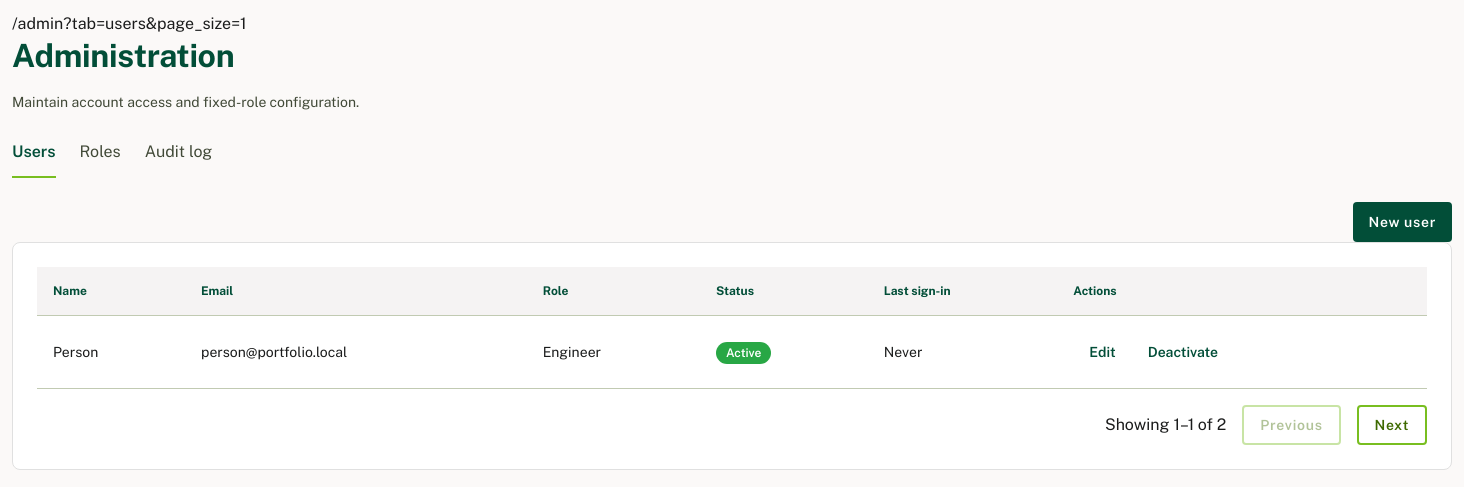
pages users through URL, switches tabs and renders stored role configuration
Expected: the text "Person" is shown, [37,316,185,388]
Expected: the column headings read "Name", "Email", "Role", "Status", "Last sign-in", "Actions", in this order, [37,267,185,316]; [185,267,527,316]; [527,267,700,316]; [700,267,868,316]; [868,267,1057,316]; [1057,267,1427,316]
Click the button "Next" at {"x": 1392, "y": 425}, box [1357,405,1427,445]
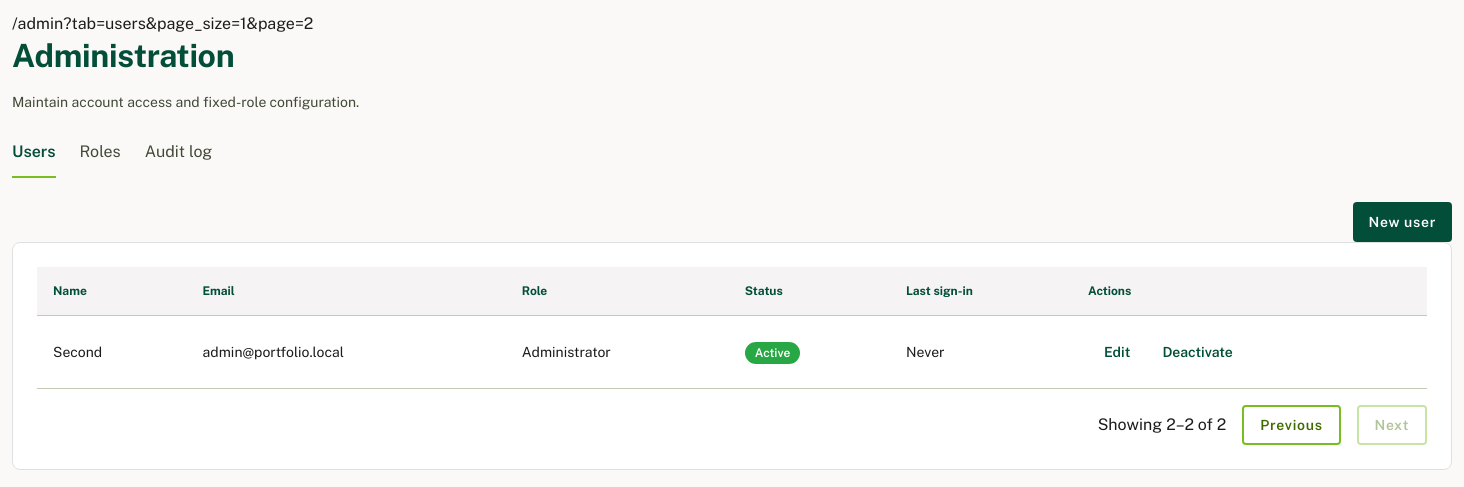
Now the text "Second" is shown, box [37,316,186,388]
Now the text named "Current route" shows "page=2", box [63,14,313,33]
Click the button "Previous" at {"x": 1291, "y": 425}, box [1242,405,1341,445]
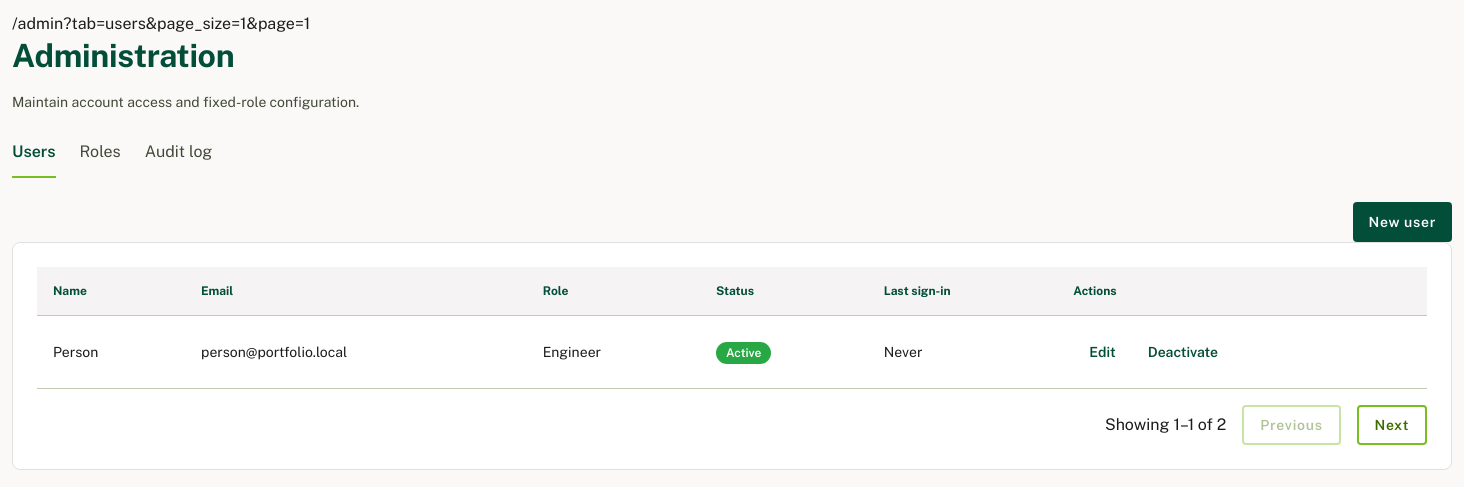
Now the text "Person" is shown, box [37,316,185,388]
Click the link "Roles" at {"x": 100, "y": 152}, box [80,142,121,161]
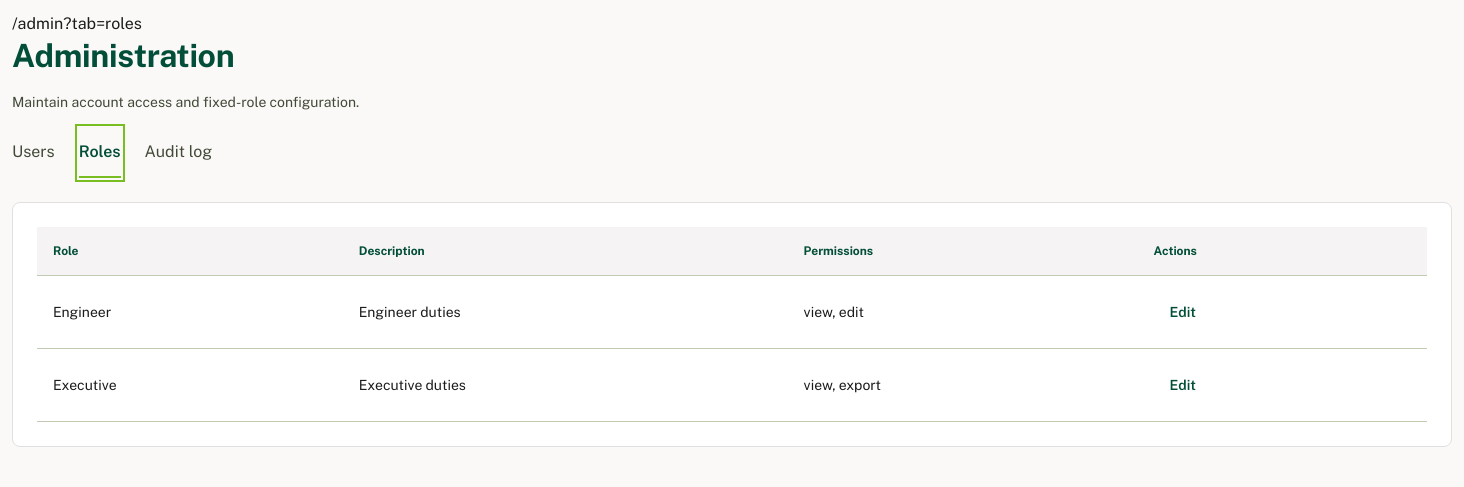
Now the text "Engineer duties" is shown, box [343,276,788,348]
Now the text named "Current route" shows "tab=roles", box [63,14,142,33]
